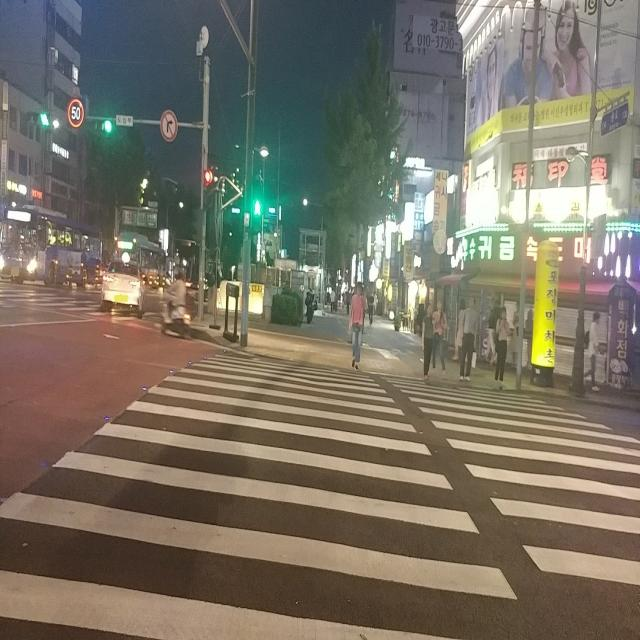초록불: (252, 192, 262, 233)
횡단보도: (0, 348, 640, 639)
